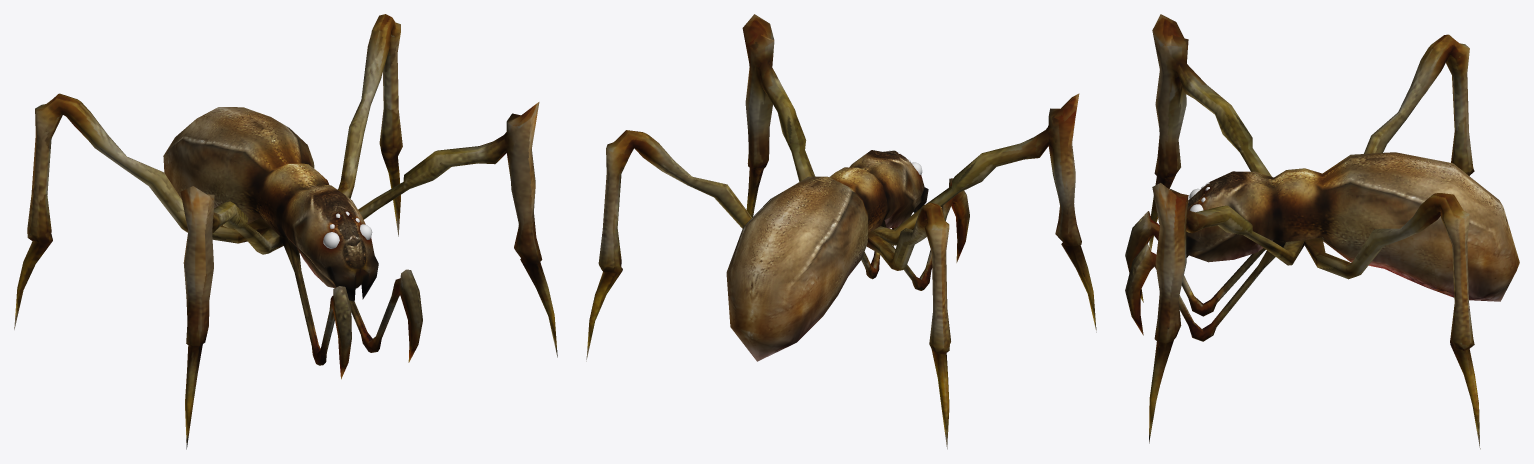
File: Huntsman_spider.glb
3 views of the same model, side by side, from view 1: azimuth 30°, elevation 25°; view 2: azimuth 150°, elevation 25°; view 3: azimuth 270°, elevation 25° (orthographic). The views are drawn at different scales.
Parts seen in each view (by area): view 1: HuntsmanSpider; view 2: HuntsmanSpider; view 3: HuntsmanSpider.
Part boxes in pixels (box(x1,y1,x2,y2)): HuntsmanSpider: box(14, 14, 557, 449); HuntsmanSpider: box(586, 14, 1096, 449); HuntsmanSpider: box(1125, 14, 1519, 449).
Bounding box in the file's own units: 1.7 × 1.09 × 1.51.
2 materials, 1 textured.
